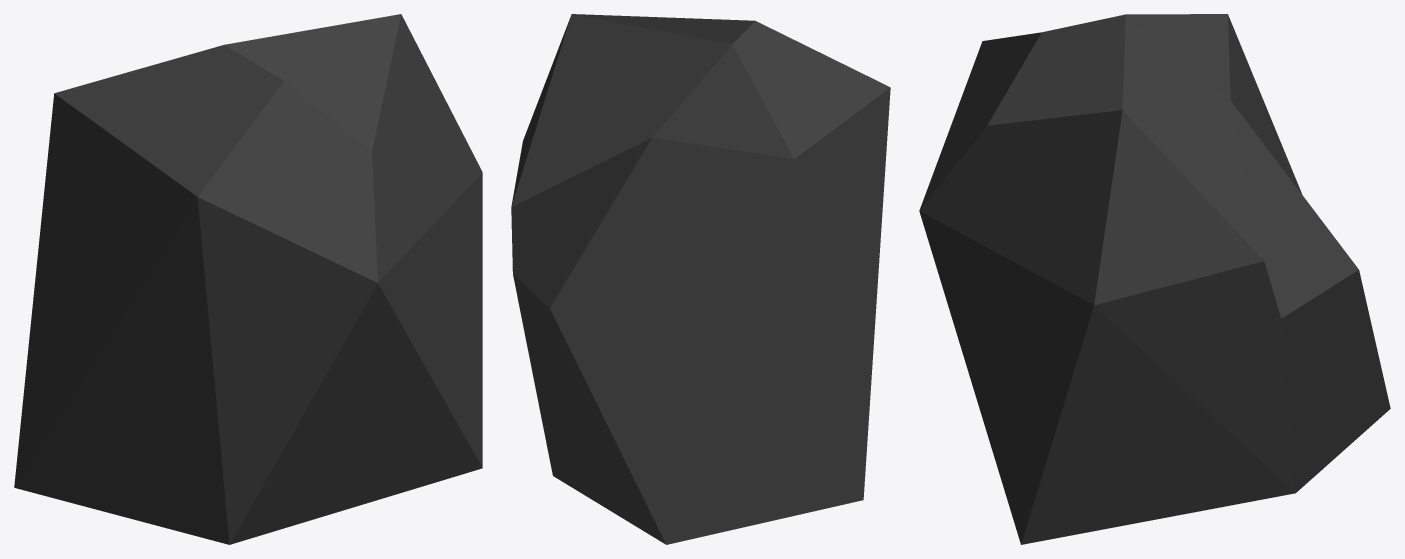
File: Rock type two.fbx
The picture shows the model from 3 angles, left to right: view 1: azimuth 30°, elevation 25°; view 2: azimuth 150°, elevation 25°; view 3: azimuth 270°, elevation 25°; orthographic projection. The views are drawn at different scales.
Visible parts, largest first — view 1: Rock; view 2: Rock; view 3: Rock.
Part boxes in pixels (bbox=[...]): Rock: bbox=[14, 14, 482, 544]; Rock: bbox=[511, 14, 890, 544]; Rock: bbox=[919, 14, 1390, 544].
Bounding box in the file's own units: 159 × 157 × 158.
